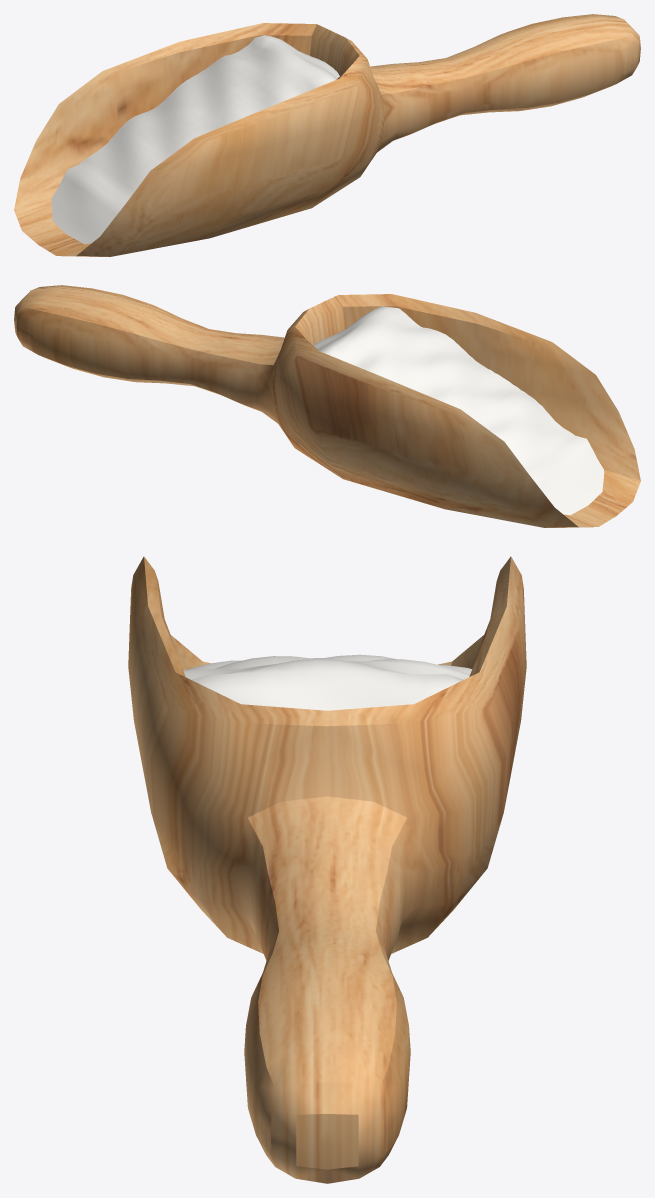
Rendered from scoop.fbx.
3 renders of one model, top to bottom at view 1: azimuth 30°, elevation 25°; view 2: azimuth 150°, elevation 25°; view 3: azimuth 270°, elevation 25°, orthographic. The views are drawn at different scales.
Visible parts, largest first — view 1: scoop, flour_scoop; view 2: scoop, flour_scoop; view 3: scoop, flour_scoop.
Part boxes in pixels (x1,y1,x2,y2): scoop: (14, 14, 640, 256); flour_scoop: (51, 35, 339, 244); scoop: (14, 285, 640, 527); flour_scoop: (313, 306, 604, 515); scoop: (128, 556, 526, 1183); flour_scoop: (183, 654, 472, 710).
Bounding box in the file's own units: 163 × 38.07 × 47.08.
Materials: 2 (1 with a texture image).
